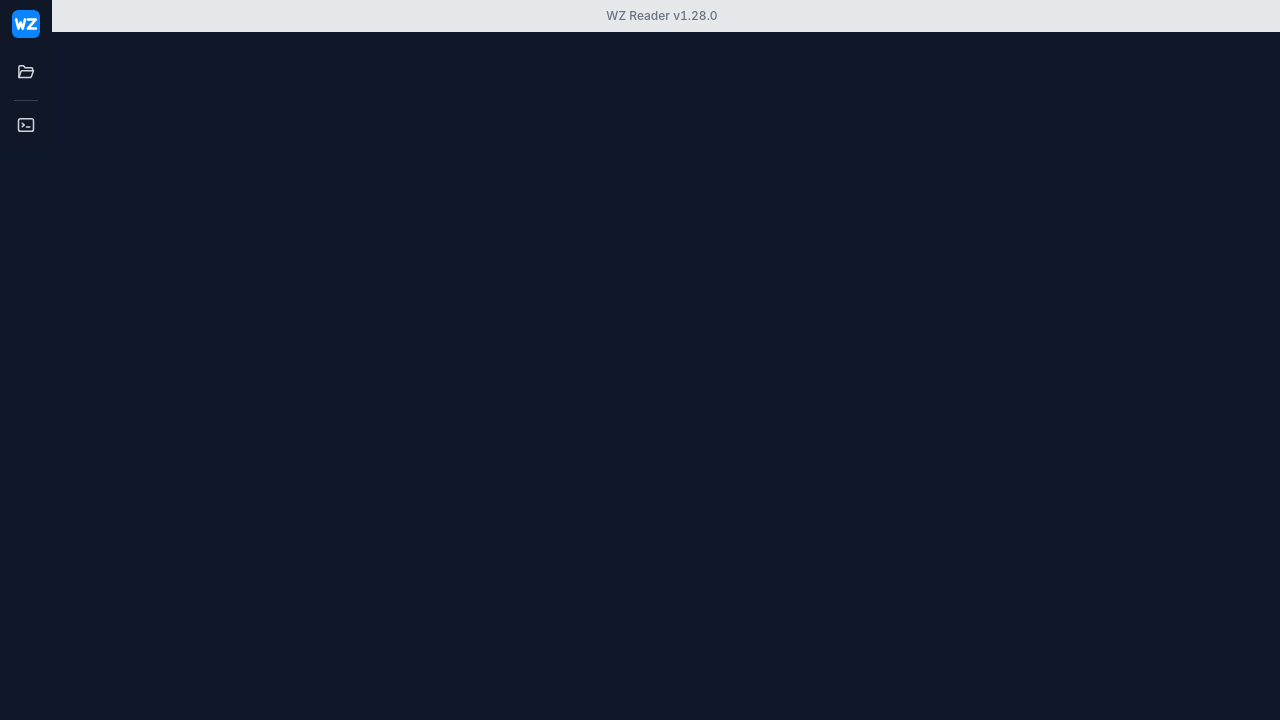
ActionBar command palette › offers only what the open document has
Press k
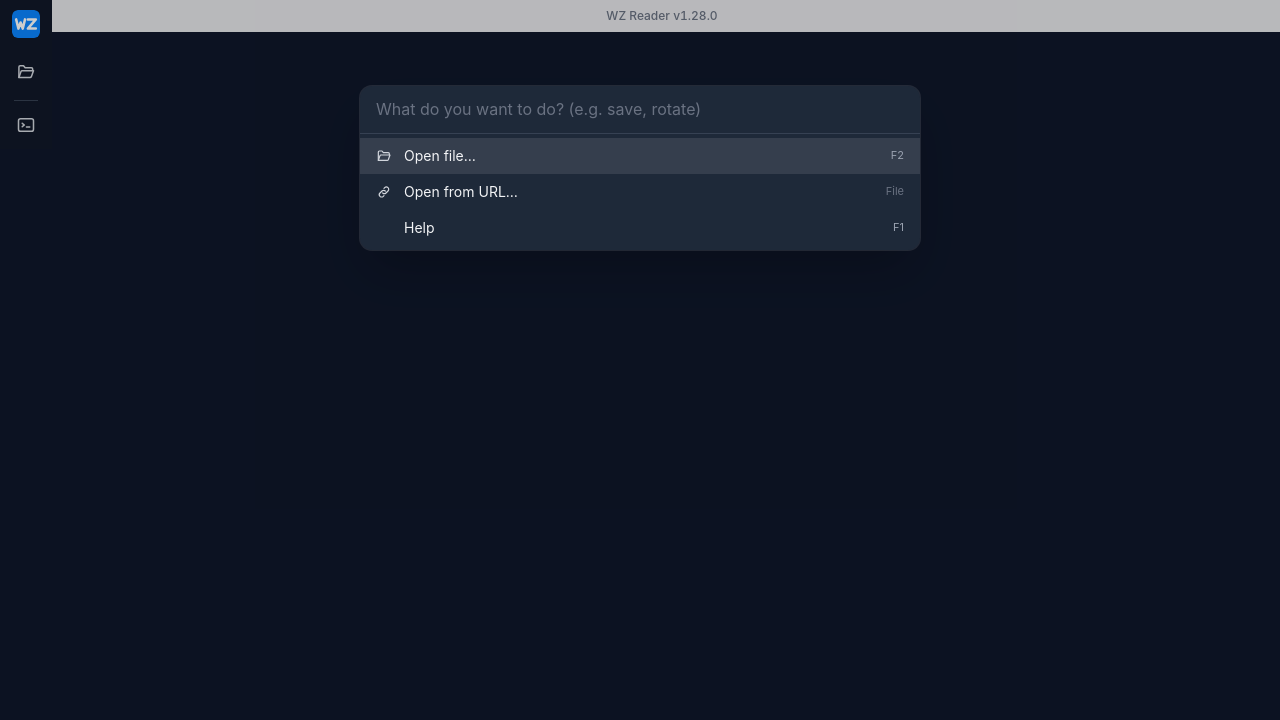
Type "rotate" into the dropdown.
click(640, 110); type("rotate")  # box x1=360 y1=86 x2=920 y2=134
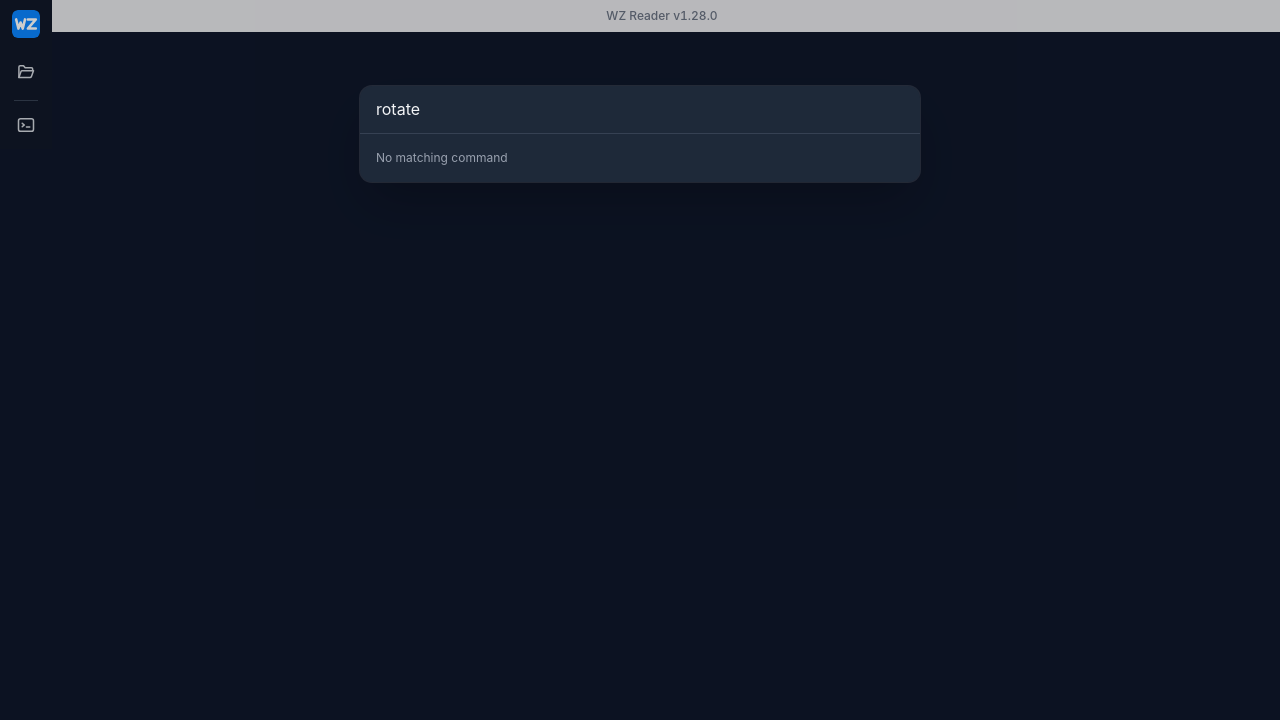
expect no options are shown: met
